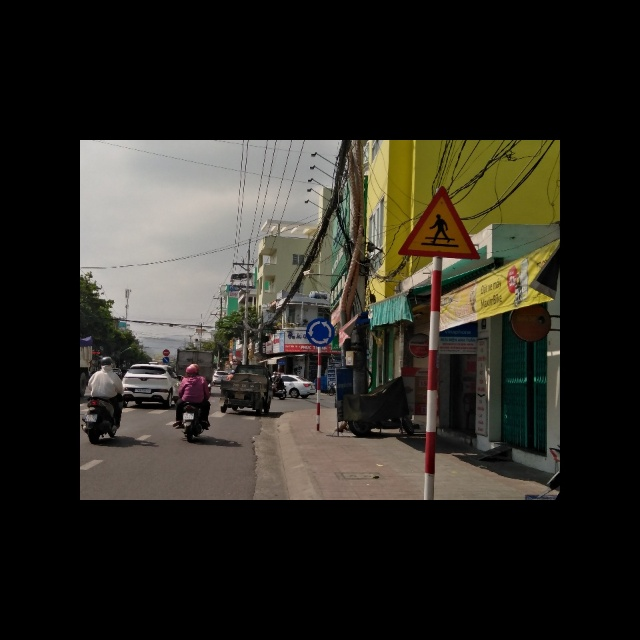Nơi giao nhau chạy theo vòng xuyến: (306, 317, 334, 345)
Đường người đi bộ sang đường: (396, 181, 482, 261)
